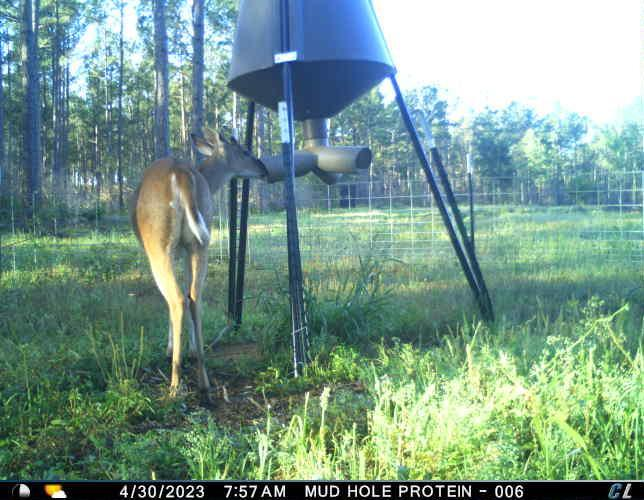Deer: (124, 126, 268, 411)
